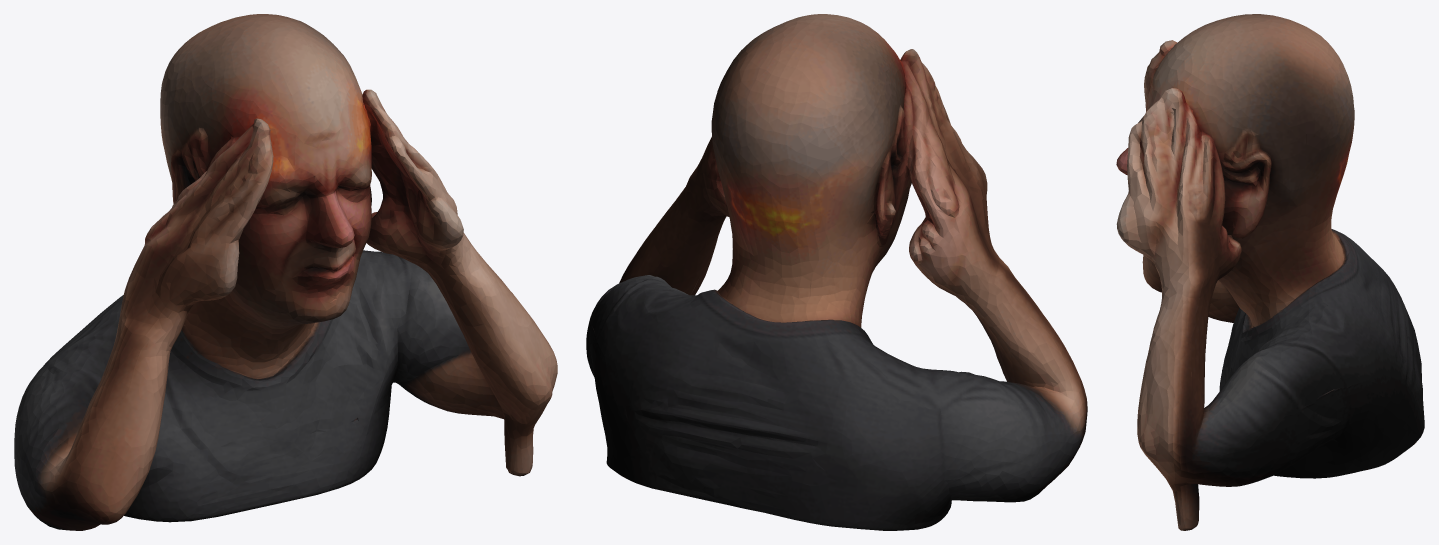
File: migraine3.glb
3 views of the same model, side by side, from view 1: azimuth 30°, elevation 25°; view 2: azimuth 150°, elevation 25°; view 3: azimuth 270°, elevation 25° (orthographic). The views are drawn at different scales.
Visible parts, largest first — view 1: Migraine; view 2: Migraine; view 3: Migraine.
Part boxes in pixels (bbox=[...]): Migraine: bbox=[14, 14, 557, 530]; Migraine: bbox=[586, 14, 1087, 530]; Migraine: bbox=[1116, 14, 1424, 530].
Size of the model in its own units: 0.9973 by 0.9091 by 0.6115.
Materials: 1 (1 with a texture image).
